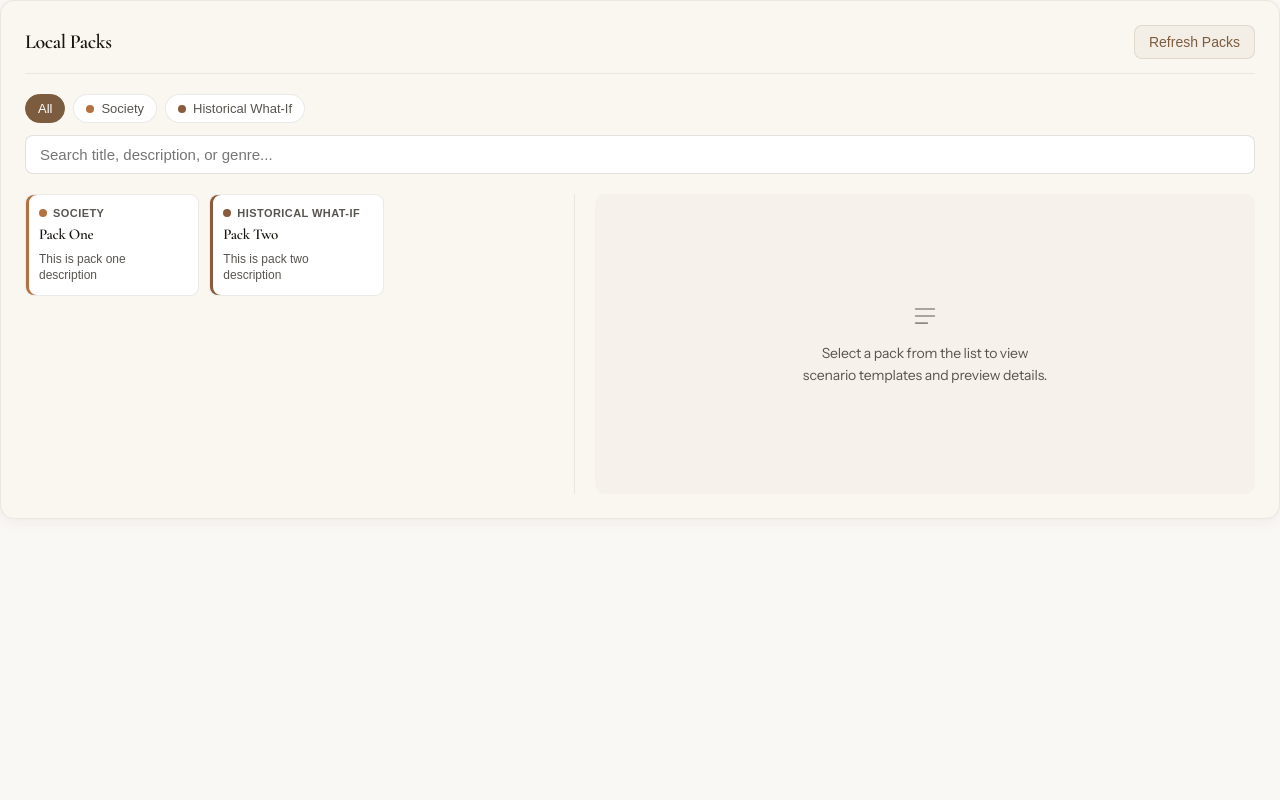
LocalPackPicker › selects and previews a pack, showing templates, suggested settings, metadata, and handles fallbacks
Click on Pack One to preview
Click the button "Society Pack One This is pack one description" at {"x": 112, "y": 245}, box 25,194 -> 199,296
(page scrolled)
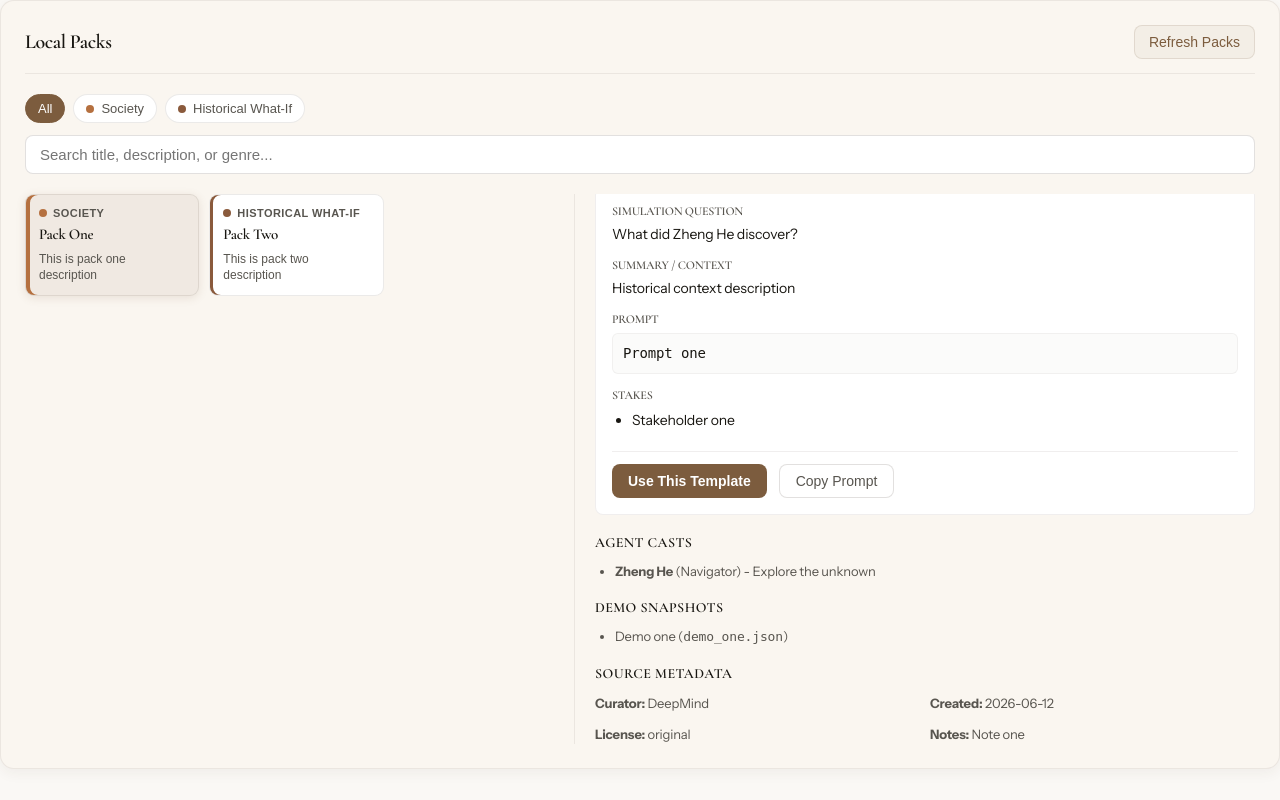
Expected: the text "Curator:" is shown, 595,695 -> 645,711
Expected: the text "DeepMind" is shown, 648,695 -> 709,711
Expected: the text "Zheng He" is shown, 615,563 -> 673,579
